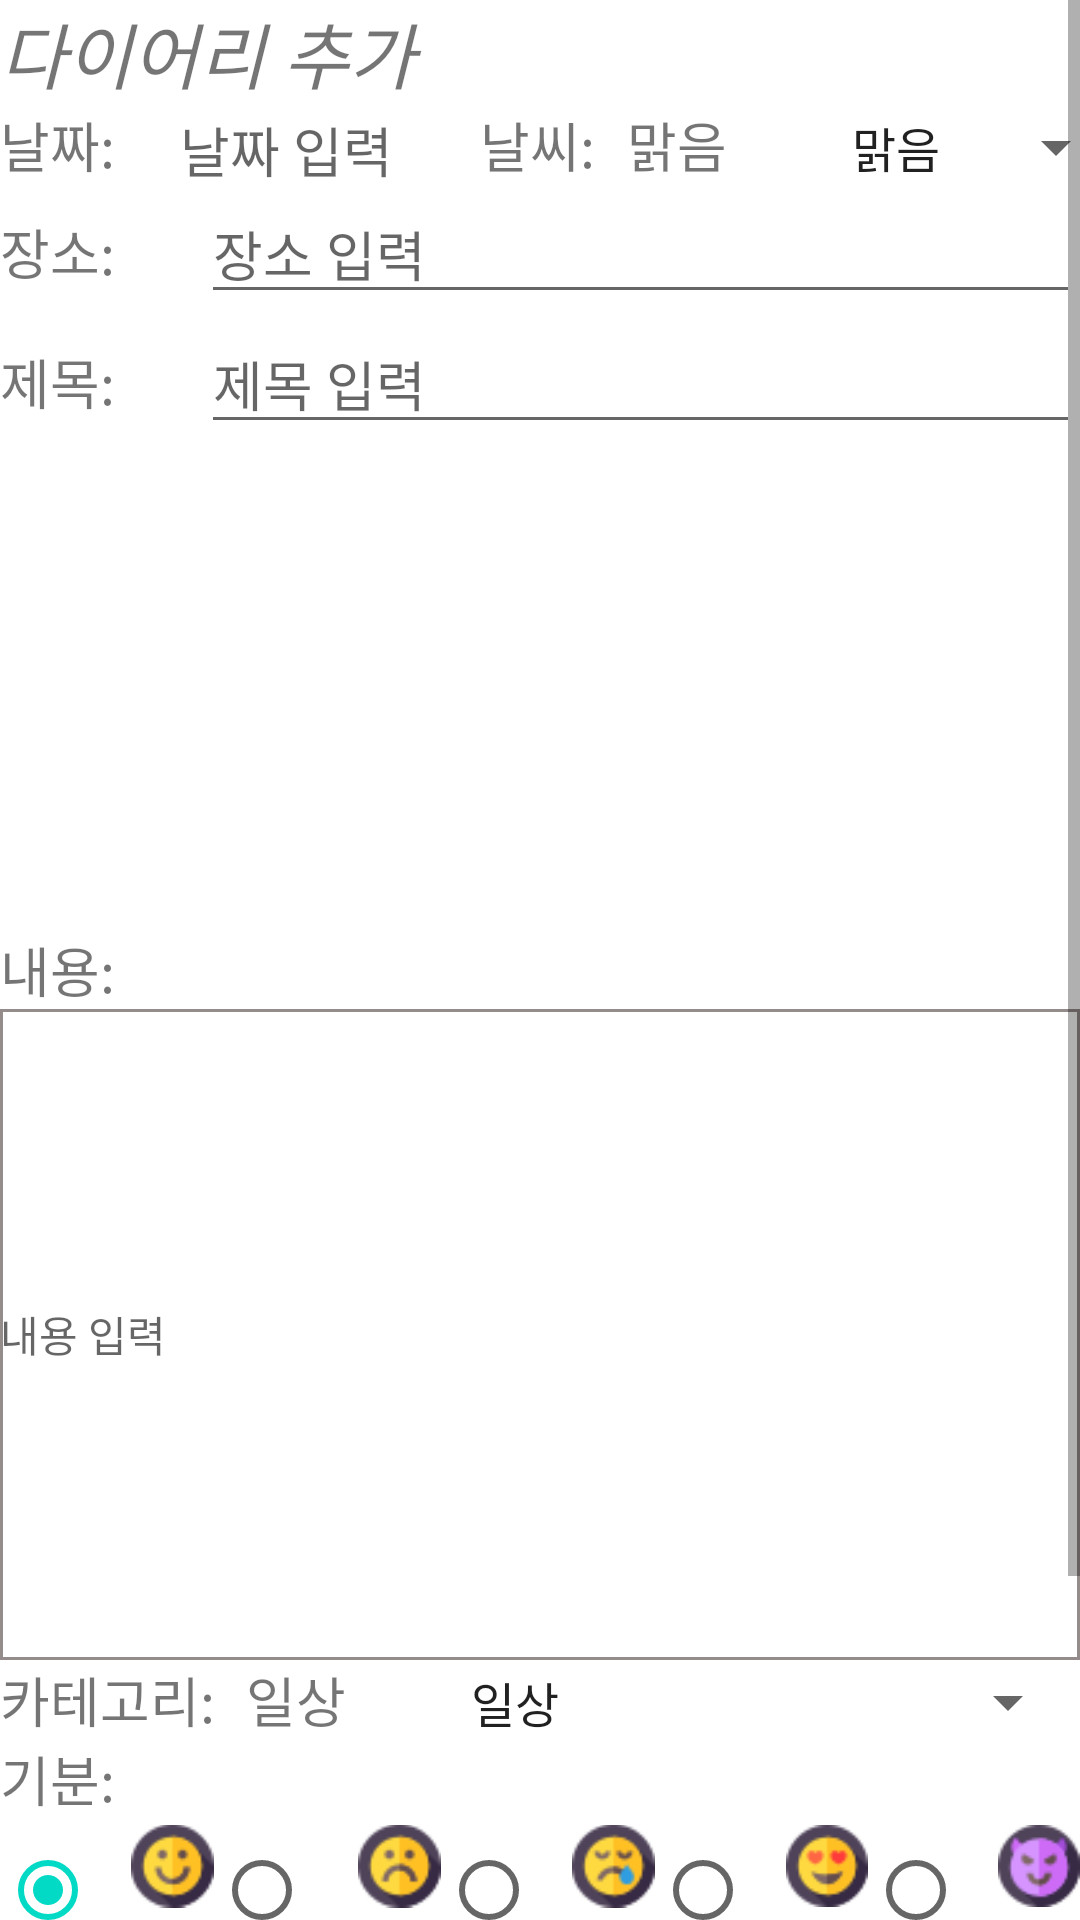

Where icons sit on this 1080 × 1920 app screen, as BBox(x1, y1, x2, y2):
angry: BBox(998, 1825, 1080, 1907)
cry: BBox(572, 1825, 655, 1908)
happy: BBox(131, 1825, 214, 1908)
love: BBox(786, 1825, 868, 1907)
sad: BBox(358, 1825, 441, 1908)
